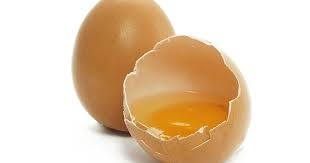kitchen_waste: (116, 30, 259, 163), (68, 1, 180, 138)
